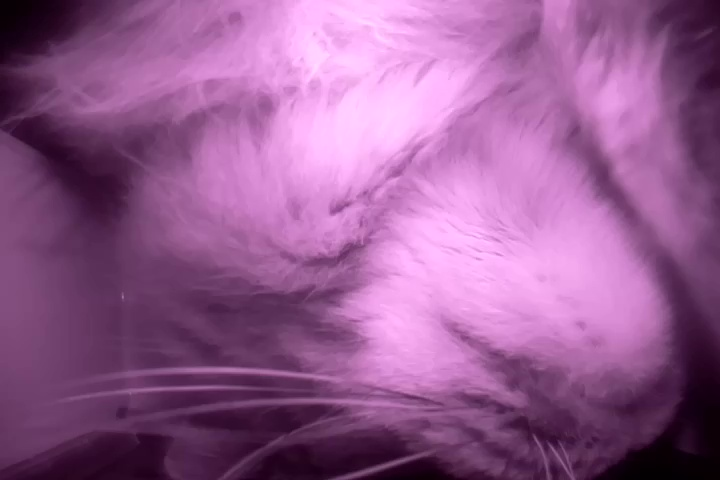Snout: (413, 255, 695, 476)
